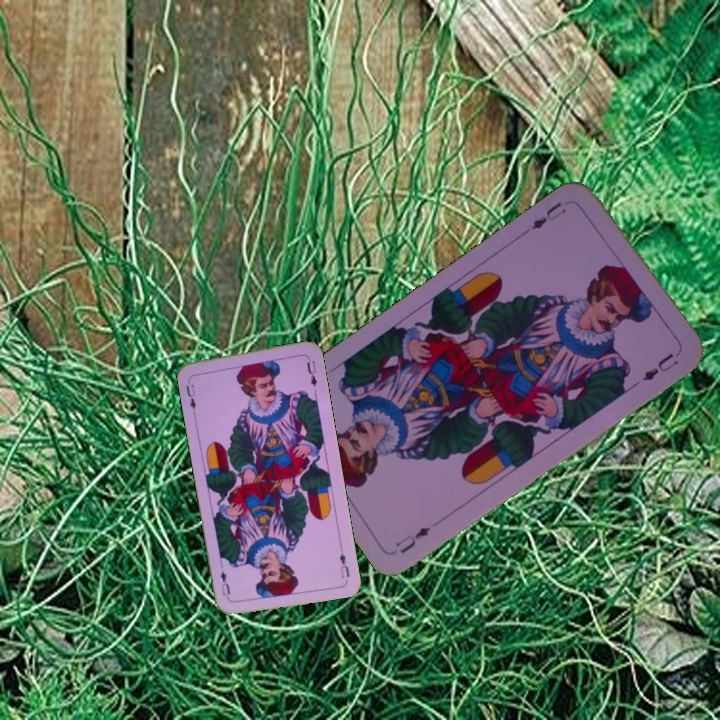EU: (526, 198, 569, 233), (391, 522, 434, 556), (182, 381, 199, 412), (336, 549, 352, 580)
